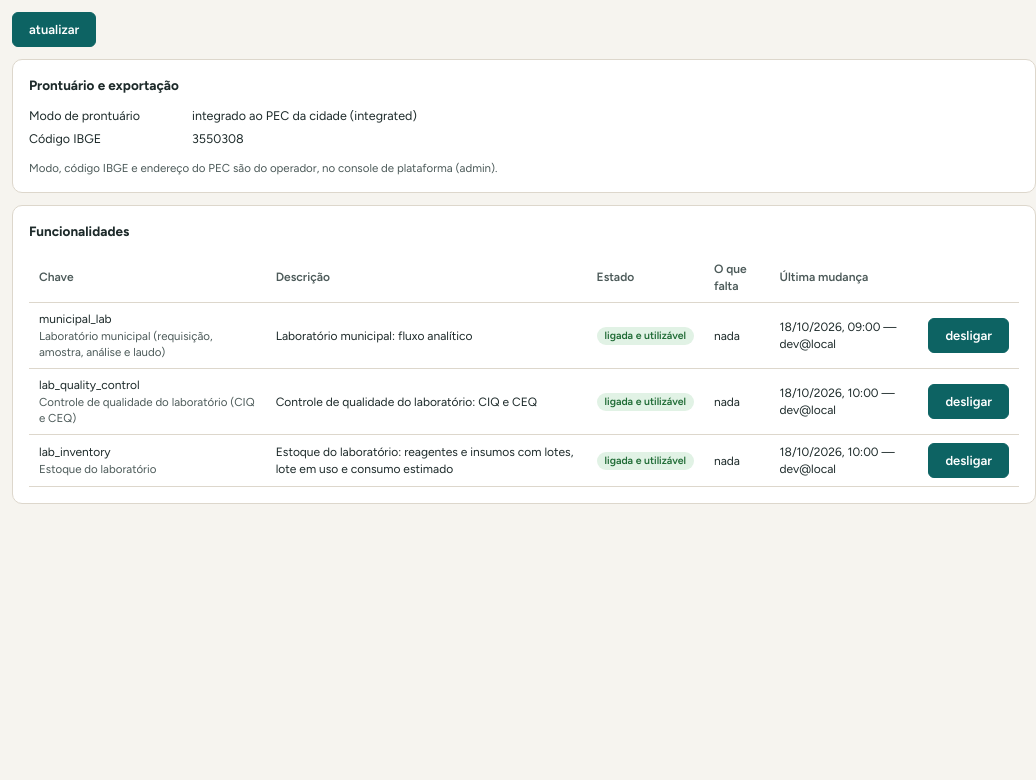
Scenario: FeaturesTab — qualidade e estoque do laboratório (módulo 21c) › desligar municipal_lab: depois do refetch os dois do 21c dizem o que falta
Expected: the text "lab_quality_control" is shown, [39,378,140,392]
Expected: the text "ligada e utilizável" is shown 3 times, [596,327,694,345]; [596,393,694,411]; [596,452,694,470]
Click the button "desligar" in the row of "municipal_lab" at [969, 336], box [928,318,1009,354]
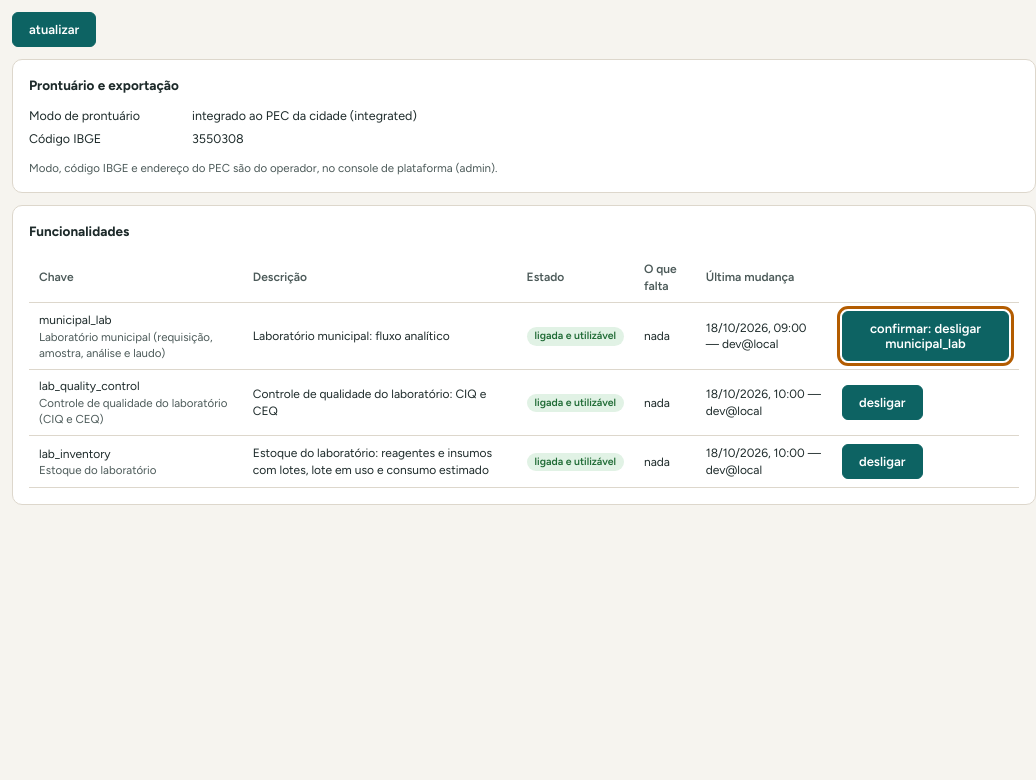
Click the button "confirmar: desligar municipal_lab" at [926, 336], box [842,312,1009,362]
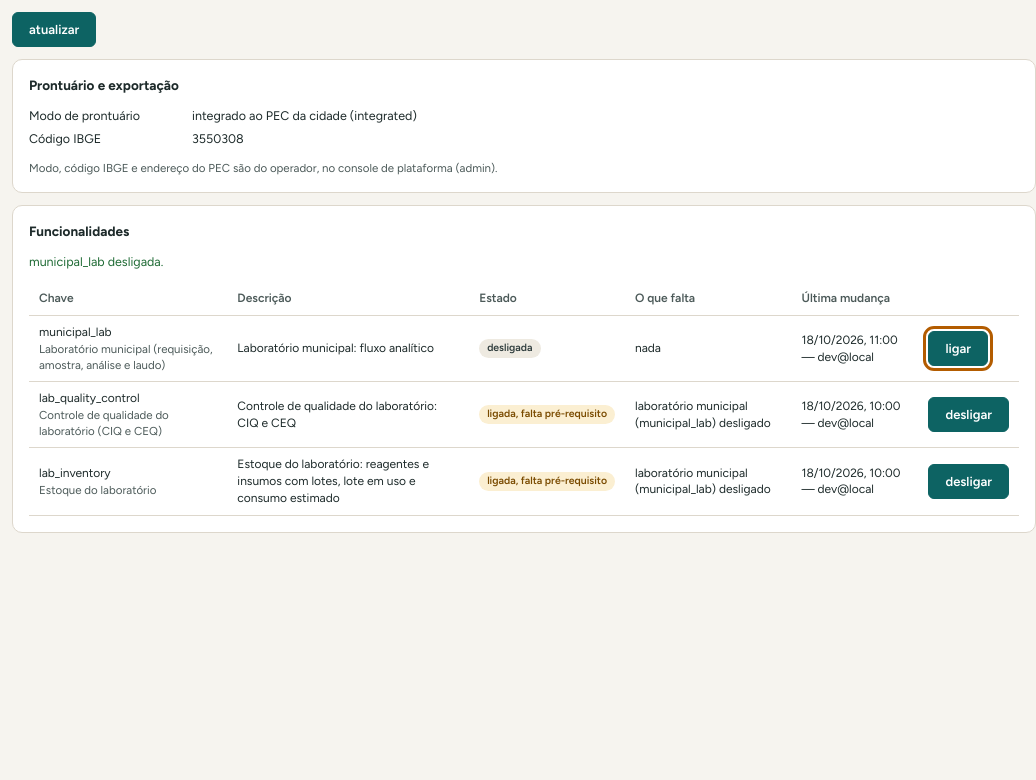
Expected: the text "ligada, falta pré-requisito" is shown 2 times, [479,405,615,424]; [479,472,615,491]
Result: the message reads "municipal_lab desligada." at [29,254,163,269]
Result: the text "ligada e utilizável" is gone
